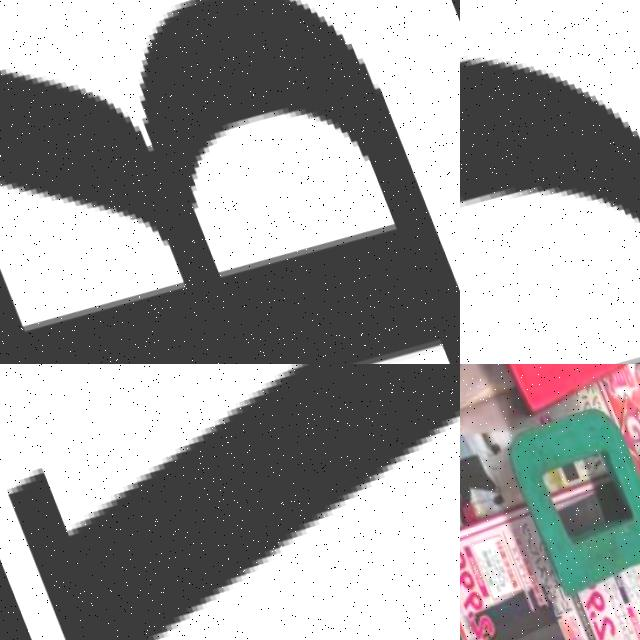D: (460, 0, 640, 364), (484, 382, 640, 600)
E: (460, 364, 637, 418)
I: (5, 364, 460, 640)
R: (0, 0, 460, 364)
